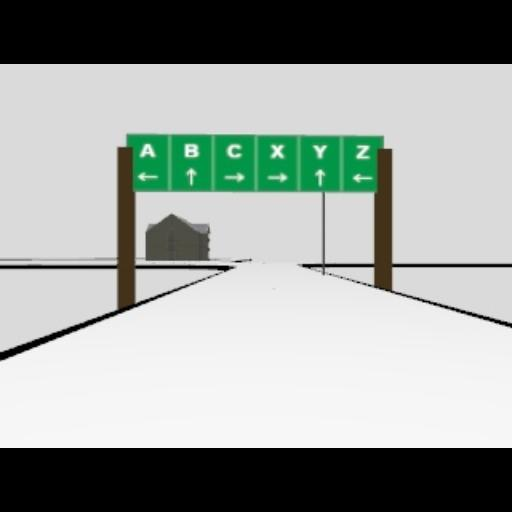A: (139, 143, 155, 157)
B: (182, 143, 198, 157)
C: (226, 142, 242, 158)
Left: (351, 173, 373, 183), (136, 171, 158, 181)
Right: (222, 172, 246, 182), (266, 172, 288, 182)
Straight: (186, 166, 196, 186), (314, 168, 324, 186)
X: (269, 142, 285, 158)
Y: (312, 144, 326, 158)
Z: (354, 144, 370, 158)
